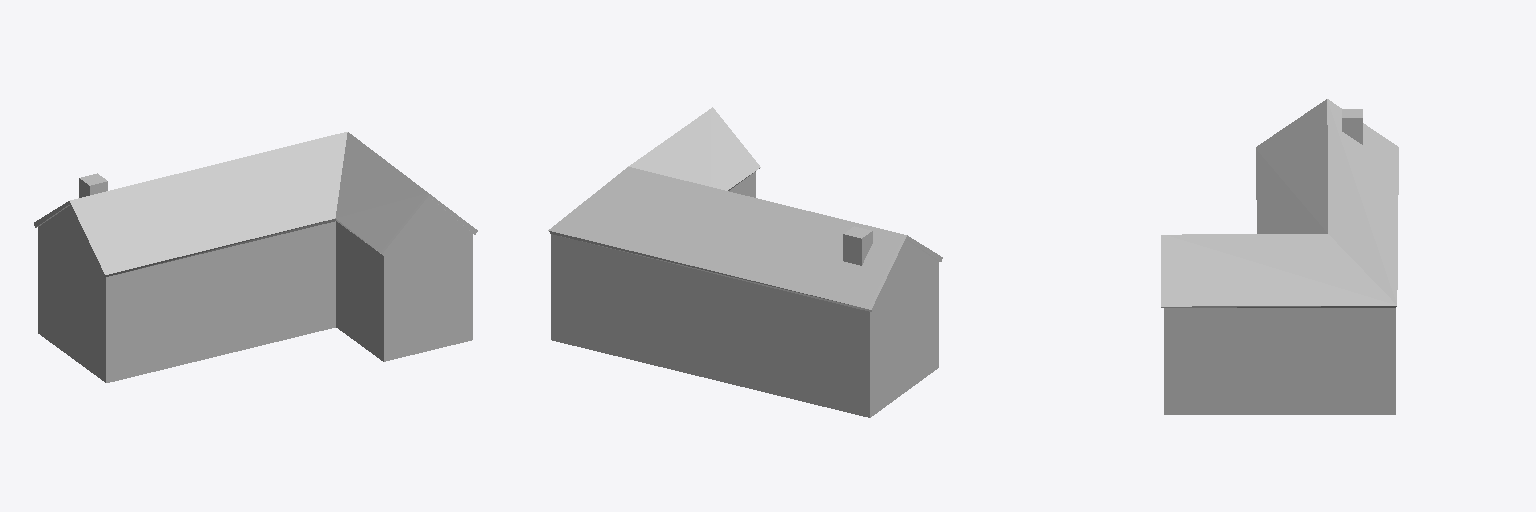
The model's file is HouseAngled.obj.
3 renders of one model, left to right at view 1: azimuth 30°, elevation 25°; view 2: azimuth 150°, elevation 25°; view 3: azimuth 270°, elevation 25°, orthographic.
Visible parts, largest first — view 1: HouseAngled PROPS; view 2: HouseAngled PROPS; view 3: HouseAngled PROPS.
Boxes of the visible parts, x1,y1,x2,y2 form: HouseAngled PROPS: [34, 132, 477, 382]; HouseAngled PROPS: [548, 107, 942, 417]; HouseAngled PROPS: [1161, 99, 1398, 414].
Size of the model in its own units: 3.63 by 1.72 by 2.29.